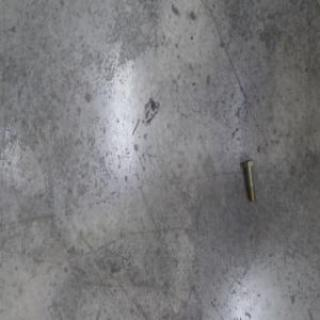Bolttrack_idkeyframe: (242, 156, 256, 201)
